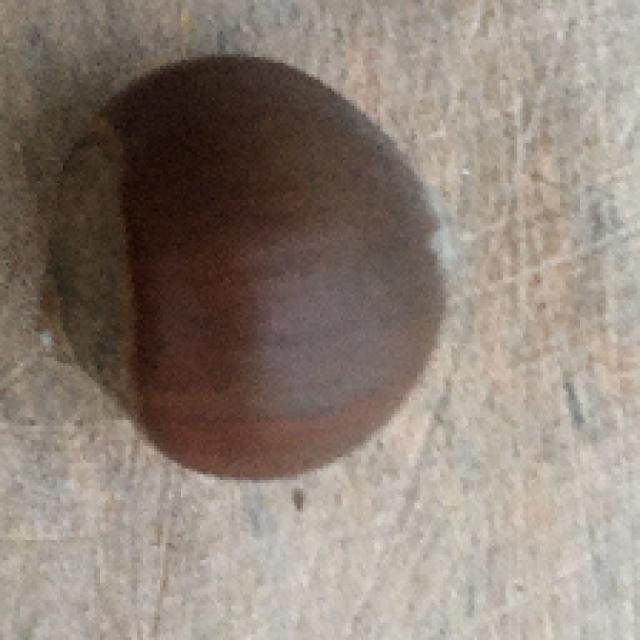qualityHazelnut: (37, 54, 456, 476)
